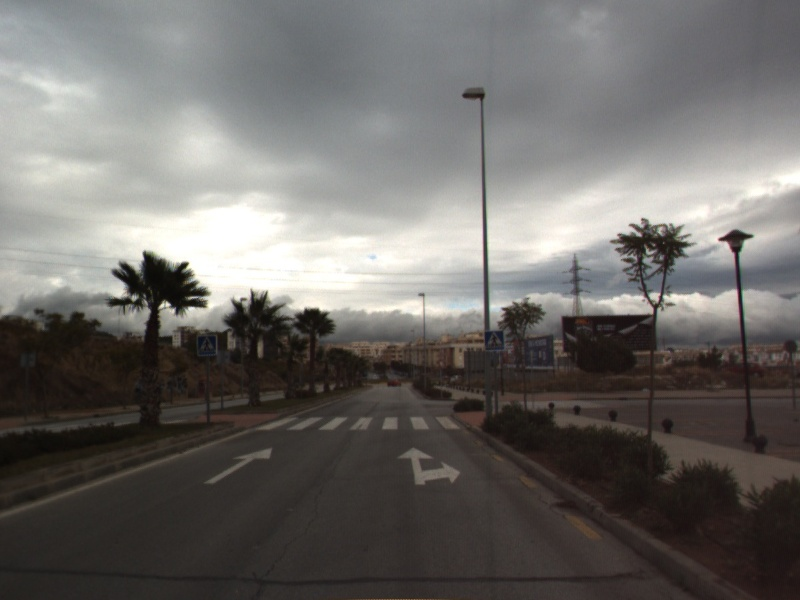STRAIGHT: (202, 446, 274, 486)
STRAIGHT_RIGHT: (394, 445, 462, 487)
